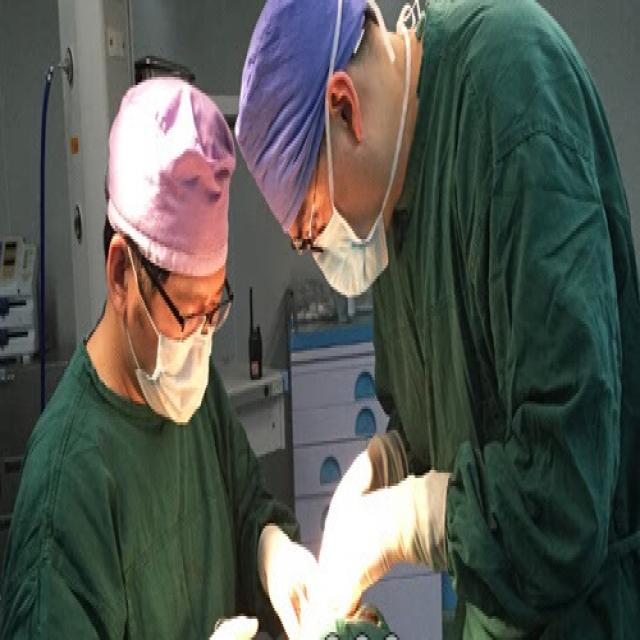mask: (280, 134, 398, 302), (146, 211, 228, 426)
